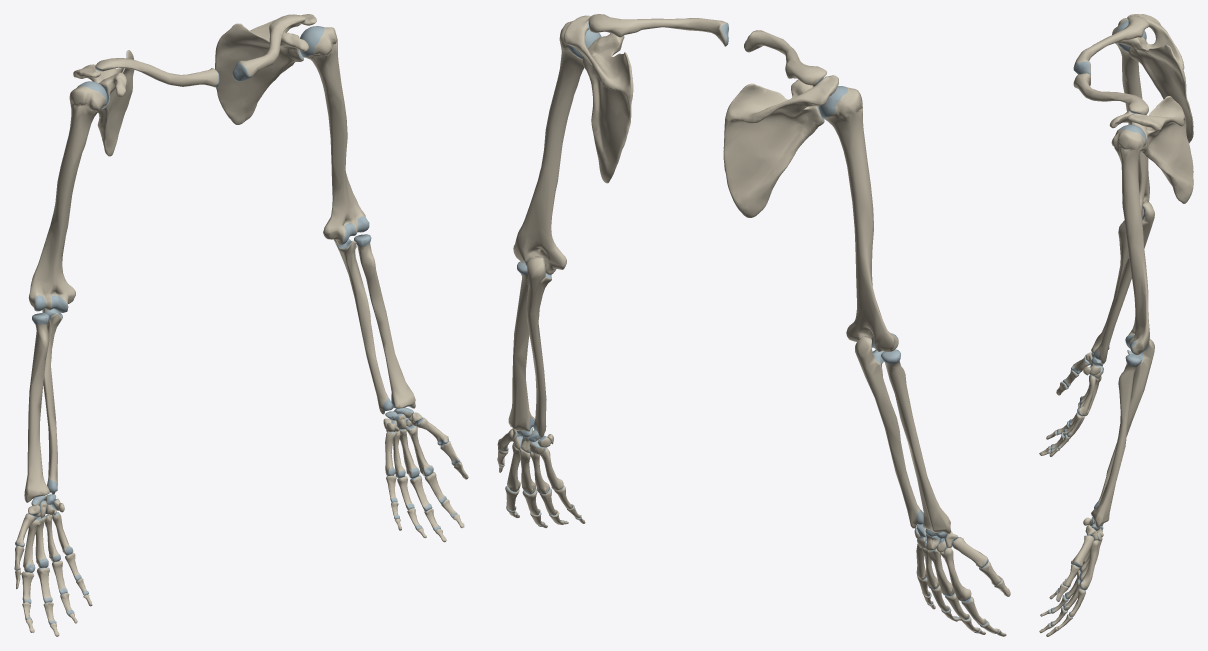
File: bones-upper-limb.glb
3 views of the same model, side by side, from view 1: azimuth 30°, elevation 25°; view 2: azimuth 150°, elevation 25°; view 3: azimuth 270°, elevation 25° (orthographic). The views are drawn at different scales.
Parts seen in each view (by area): view 1: bone-humerus-r, bone-humerus-l, bone-scapula-l, bone-radius-r, bone-radius-l, bone-scapula-r, bone-ulna-l, bone-ulna-r, bone-clavicle-r, bone-clavicle-l; view 2: bone-scapula-r, bone-humerus-r, bone-humerus-l, bone-scapula-l, bone-ulna-r, bone-radius-r, bone-ulna-l, bone-radius-l, bone-clavicle-l, bone-clavicle-r; view 3: bone-humerus-l, bone-scapula-l, bone-scapula-r, bone-radius-l, bone-humerus-r, bone-ulna-r, bone-ulna-l, bone-clavicle-r, bone-clavicle-l, bone-radius-r, bone-second-metacarpal-bone-l, bone-first-metacarpal-bone-l (+1 smaller).
Part boxes in pixels (bbox=[...]): bone-humerus-r: bbox=[28, 81, 107, 312]; bone-humerus-l: bbox=[300, 26, 369, 244]; bone-scapula-l: bbox=[215, 14, 316, 124]; bone-radius-r: bbox=[24, 312, 49, 502]; bone-radius-l: bbox=[354, 234, 415, 408]; bone-scapula-r: bbox=[73, 50, 134, 156]; bone-ulna-l: bbox=[333, 238, 392, 414]; bone-ulna-r: bbox=[42, 308, 62, 494]; bone-clavicle-r: bbox=[95, 58, 219, 87]; bone-clavicle-l: bbox=[232, 14, 306, 81]; bone-scapula-r: bbox=[723, 75, 838, 217]; bone-humerus-r: bbox=[819, 86, 898, 351]; bone-humerus-l: bbox=[513, 21, 601, 274]; bone-scapula-l: bbox=[563, 15, 633, 183]; bone-ulna-r: bbox=[855, 336, 923, 528]; bone-radius-r: bbox=[881, 349, 950, 533]; bone-ulna-l: bbox=[526, 256, 551, 437]; bone-radius-l: bbox=[508, 261, 534, 431]; bone-clavicle-l: bbox=[588, 14, 728, 46]; bone-clavicle-r: bbox=[744, 30, 826, 85]; bone-humerus-l: bbox=[1111, 124, 1149, 354]; bone-scapula-l: bbox=[1109, 96, 1193, 203]; bone-scapula-r: bbox=[1115, 14, 1193, 143]; bone-radius-l: bbox=[1091, 354, 1141, 527]; bone-humerus-r: bbox=[1112, 18, 1149, 217]; bone-ulna-r: bbox=[1094, 201, 1154, 363]; bone-ulna-l: bbox=[1094, 338, 1154, 508]; bone-clavicle-r: bbox=[1073, 15, 1148, 75]; bone-clavicle-l: bbox=[1073, 73, 1148, 114]; bone-radius-r: bbox=[1091, 220, 1128, 353]; bone-second-metacarpal-bone-l: bbox=[1079, 540, 1098, 590]; bone-first-metacarpal-bone-l: bbox=[1071, 535, 1093, 567].
Size of the model in its own units: 0.6693 by 0.7265 by 0.2098.
